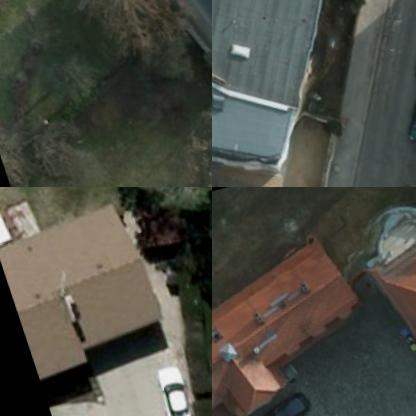car: (144, 364, 194, 415), (252, 395, 312, 415), (398, 98, 415, 154), (406, 43, 415, 89)
